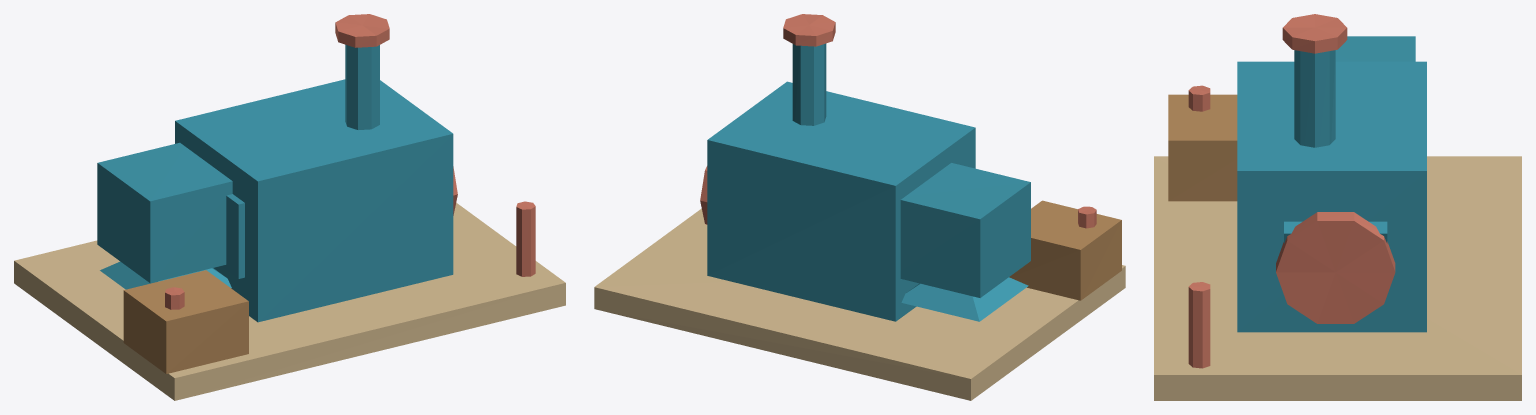
Rendered from biomass-generator.source.glb.
The picture shows the model from 3 angles, left to right: view 1: azimuth 30°, elevation 25°; view 2: azimuth 150°, elevation 25°; view 3: azimuth 270°, elevation 25°; orthographic projection. The views are drawn at different scales.
Visible parts, largest first — view 1: biomass-generator-painted-generator-enclosure-mesh, biomass-generator-grounded-concrete-plinth-mesh, biomass-generator-square-feed-hopper-mesh, biomass-generator-wood-chip-intake-bin-mesh, biomass-generator-short-exhaust-stack-mesh, biomass-generator-exhaust-cap-mesh, biomass-generator-dark-side-service-panel-mesh, biomass-generator-service-bollard-2-mesh, biomass-generator-hopper-funnel-mesh; view 2: biomass-generator-painted-generator-enclosure-mesh, biomass-generator-grounded-concrete-plinth-mesh, biomass-generator-square-feed-hopper-mesh, biomass-generator-wood-chip-intake-bin-mesh, biomass-generator-short-exhaust-stack-mesh, biomass-generator-hopper-funnel-mesh, biomass-generator-exhaust-cap-mesh; view 3: biomass-generator-grounded-concrete-plinth-mesh, biomass-generator-painted-generator-enclosure-mesh, biomass-generator-visible-flywheel-mesh, biomass-generator-wood-chip-intake-bin-mesh, biomass-generator-short-exhaust-stack-mesh, biomass-generator-exhaust-cap-mesh, biomass-generator-square-feed-hopper-mesh, biomass-generator-service-bollard-2-mesh, biomass-generator-service-bollard-1-mesh, biomass-generator-simple-belt-guard-mesh.
Part boxes in pixels (left/top/right/bottom): biomass-generator-painted-generator-enclosure-mesh: left=175, top=79, right=453, bottom=322; biomass-generator-grounded-concrete-plinth-mesh: left=14, top=203, right=565, bottom=400; biomass-generator-square-feed-hopper-mesh: left=97, top=142, right=232, bottom=283; biomass-generator-wood-chip-intake-bin-mesh: left=123, top=270, right=248, bottom=373; biomass-generator-short-exhaust-stack-mesh: left=345, top=44, right=379, bottom=129; biomass-generator-exhaust-cap-mesh: left=335, top=14, right=389, bottom=47; biomass-generator-dark-side-service-panel-mesh: left=221, top=194, right=244, bottom=278; biomass-generator-service-bollard-2-mesh: left=516, top=201, right=535, bottom=276; biomass-generator-hopper-funnel-mesh: left=100, top=261, right=231, bottom=289; biomass-generator-painted-generator-enclosure-mesh: left=707, top=81, right=975, bottom=321; biomass-generator-grounded-concrete-plinth-mesh: left=594, top=208, right=1125, bottom=400; biomass-generator-square-feed-hopper-mesh: left=900, top=163, right=1030, bottom=297; biomass-generator-wood-chip-intake-bin-mesh: left=1009, top=200, right=1121, bottom=300; biomass-generator-short-exhaust-stack-mesh: left=792, top=43, right=826, bottom=125; biomass-generator-hopper-funnel-mesh: left=901, top=277, right=1028, bottom=321; biomass-generator-exhaust-cap-mesh: left=783, top=14, right=835, bottom=46; biomass-generator-grounded-concrete-plinth-mesh: left=1154, top=156, right=1521, bottom=400; biomass-generator-painted-generator-enclosure-mesh: left=1237, top=61, right=1426, bottom=332; biomass-generator-visible-flywheel-mesh: left=1276, top=212, right=1395, bottom=323; biomass-generator-wood-chip-intake-bin-mesh: left=1168, top=94, right=1237, bottom=201; biomass-generator-short-exhaust-stack-mesh: left=1294, top=50, right=1335, bottom=147; biomass-generator-exhaust-cap-mesh: left=1282, top=14, right=1347, bottom=53; biomass-generator-square-feed-hopper-mesh: left=1335, top=36, right=1415, bottom=61; biomass-generator-service-bollard-2-mesh: left=1188, top=282, right=1210, bottom=368; biomass-generator-service-bollard-1-mesh: left=1188, top=85, right=1210, bottom=111; biomass-generator-simple-belt-guard-mesh: left=1284, top=221, right=1387, bottom=243.
Size of the model in its own units: 4.52 by 2.87 by 3.2.
